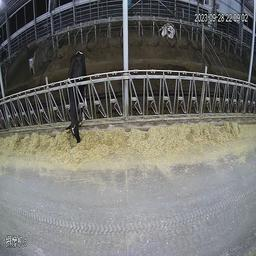cow: (67, 48, 87, 145), (156, 18, 177, 38)
